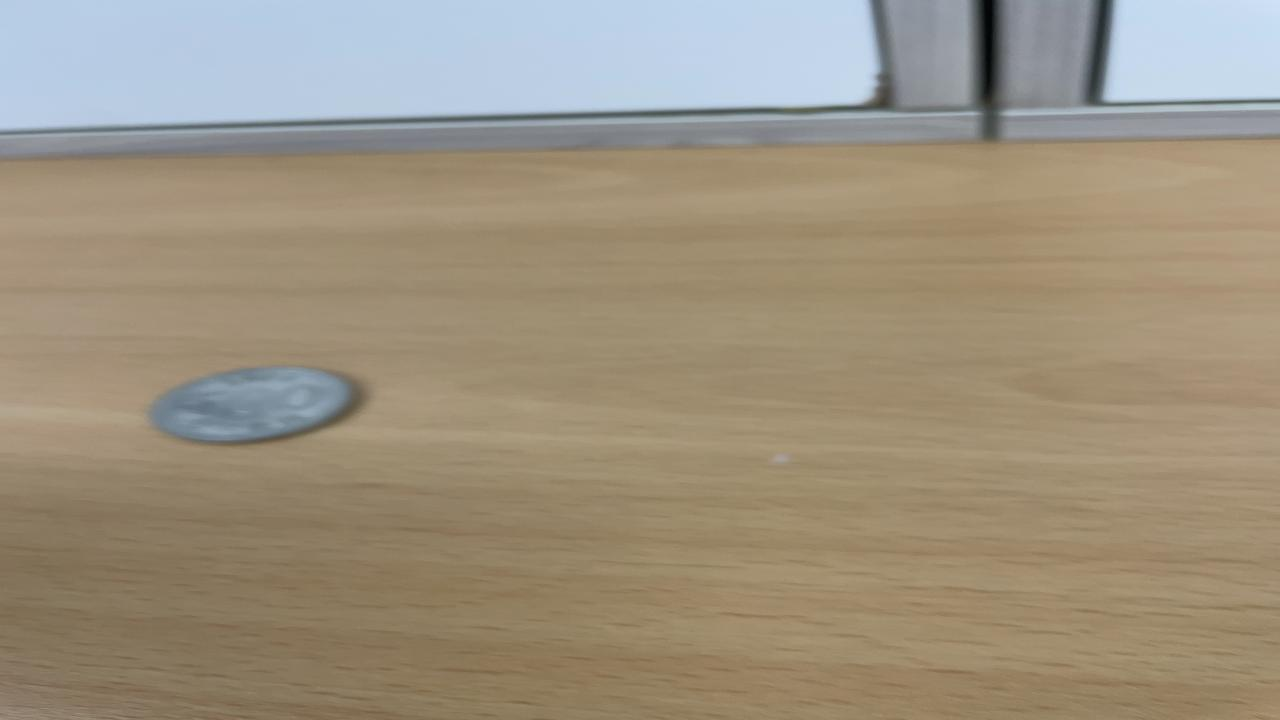coin: (144, 364, 361, 446)
